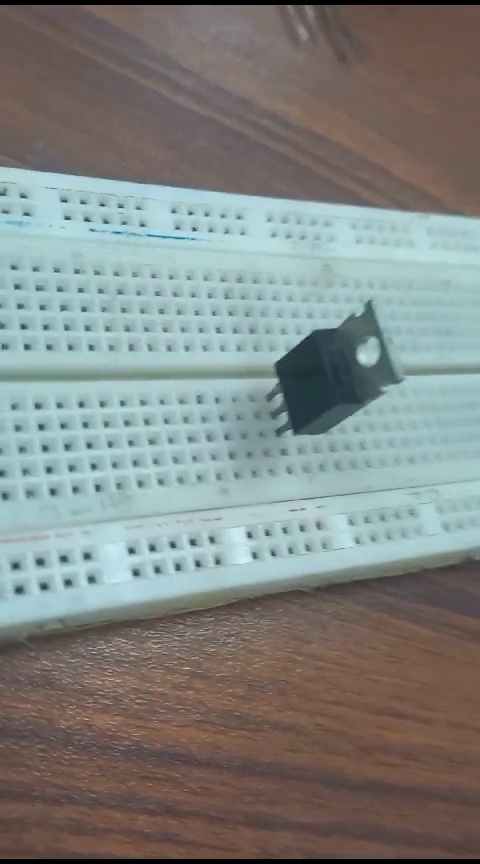voltage regulator: (260, 300, 416, 449)
